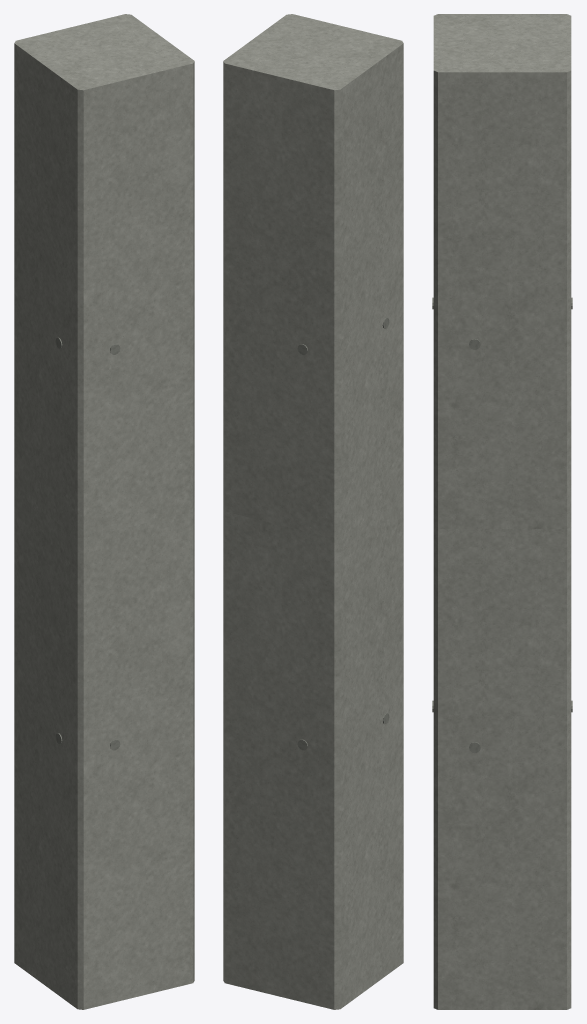
Rendered from PZ_Column_0400_3m.glb.
3 renders of one model, left to right at view 1: azimuth 30°, elevation 25°; view 2: azimuth 150°, elevation 25°; view 3: azimuth 270°, elevation 25°, orthographic.
Parts seen in each view (by area): view 1: RENDER_PZ_Column_0400_3m__RENDER_Concrete_Column_Core__000; view 2: RENDER_PZ_Column_0400_3m__RENDER_Concrete_Column_Core__000; view 3: RENDER_PZ_Column_0400_3m__RENDER_Concrete_Column_Core__000.
Part boxes in pixels (bbox=[...]): RENDER_PZ_Column_0400_3m__RENDER_Concrete_Column_Core__000: bbox=[14, 14, 194, 1009]; RENDER_PZ_Column_0400_3m__RENDER_Concrete_Column_Core__000: bbox=[223, 14, 403, 1009]; RENDER_PZ_Column_0400_3m__RENDER_Concrete_Column_Core__000: bbox=[433, 14, 571, 1009].
Bounding box in the file's own units: 0.406 × 3 × 0.406.
Materials: 2 (2 with a texture image).
